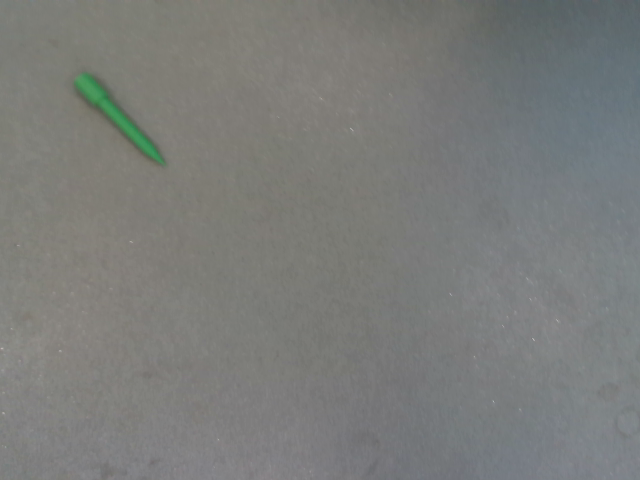Probe: (69, 67, 174, 174)
